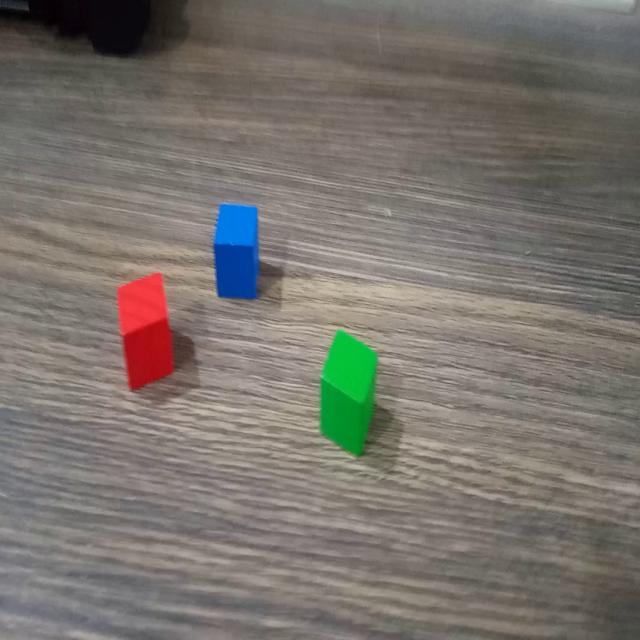cube: (316, 326, 381, 461), (114, 269, 178, 395), (211, 199, 261, 298)
